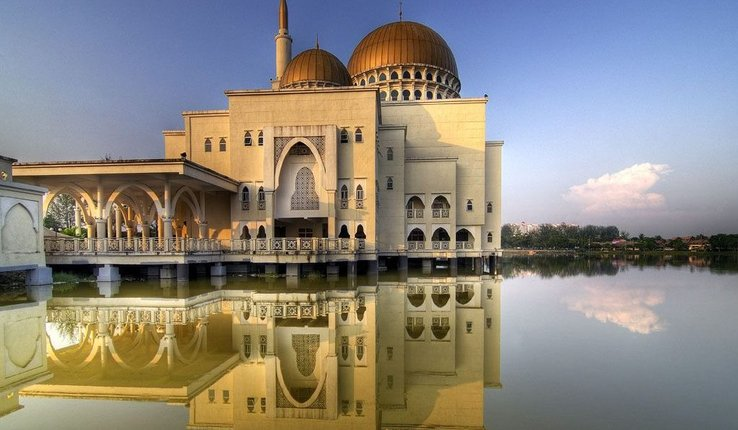Mosque: (9, 10, 504, 264)
